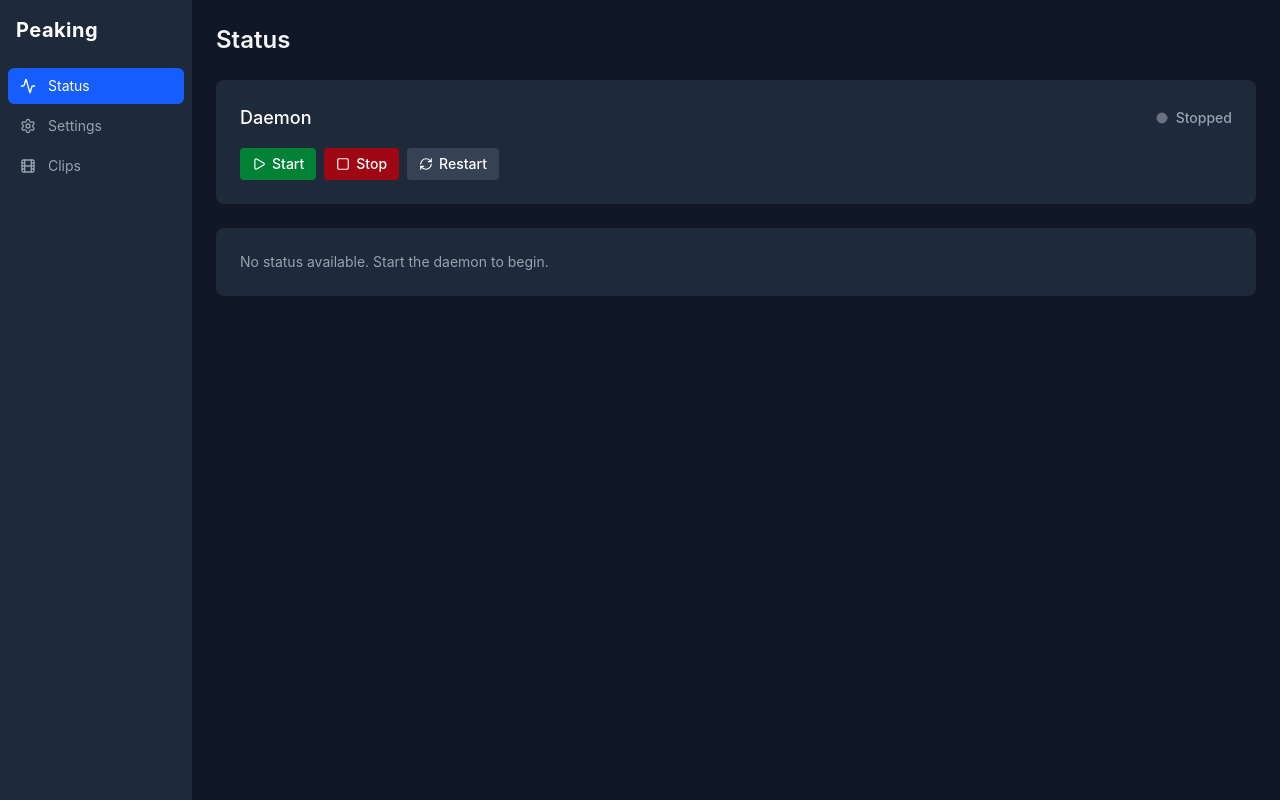
Scenario: App › navigates to the clips page
The image size is (1280, 800).
Click the button "Clips". click: (96, 166)
box: [8,148,184,184]
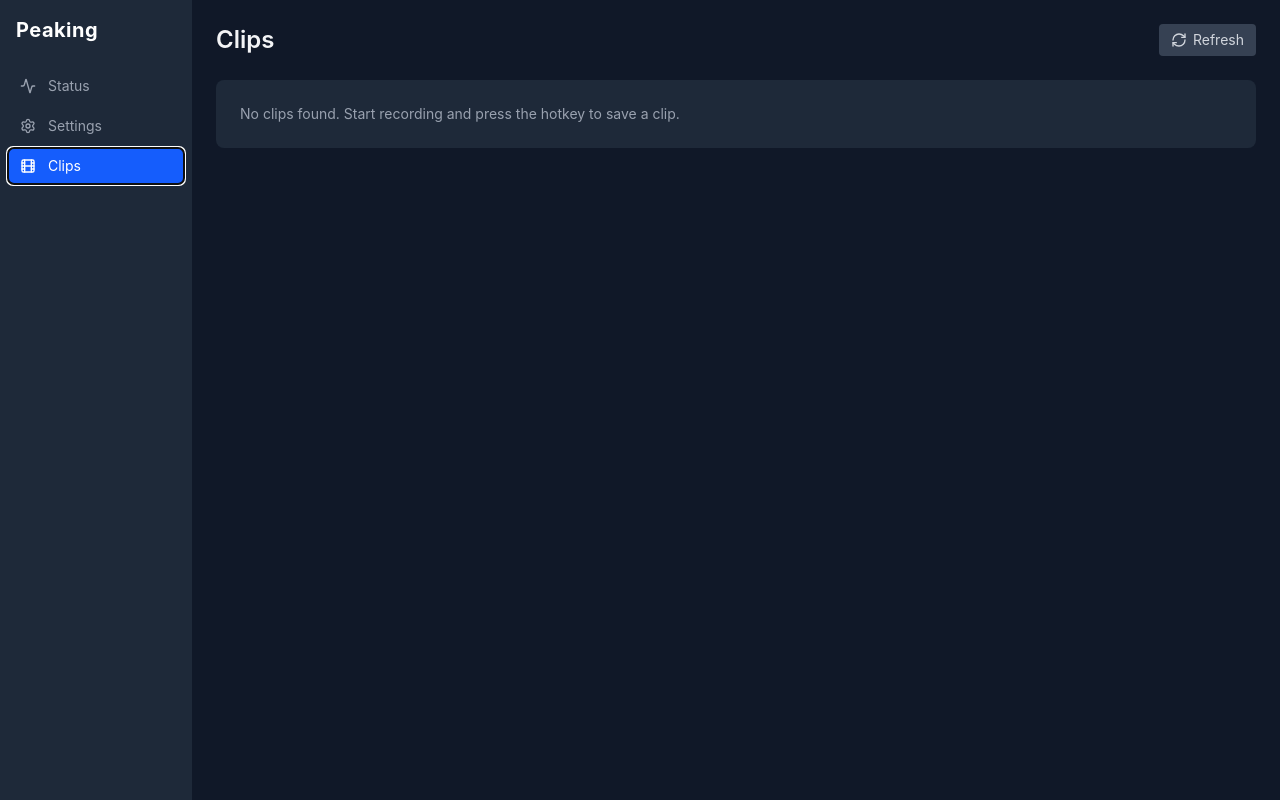
Now the heading "Clips" is shown, box [216,24,274,56]
